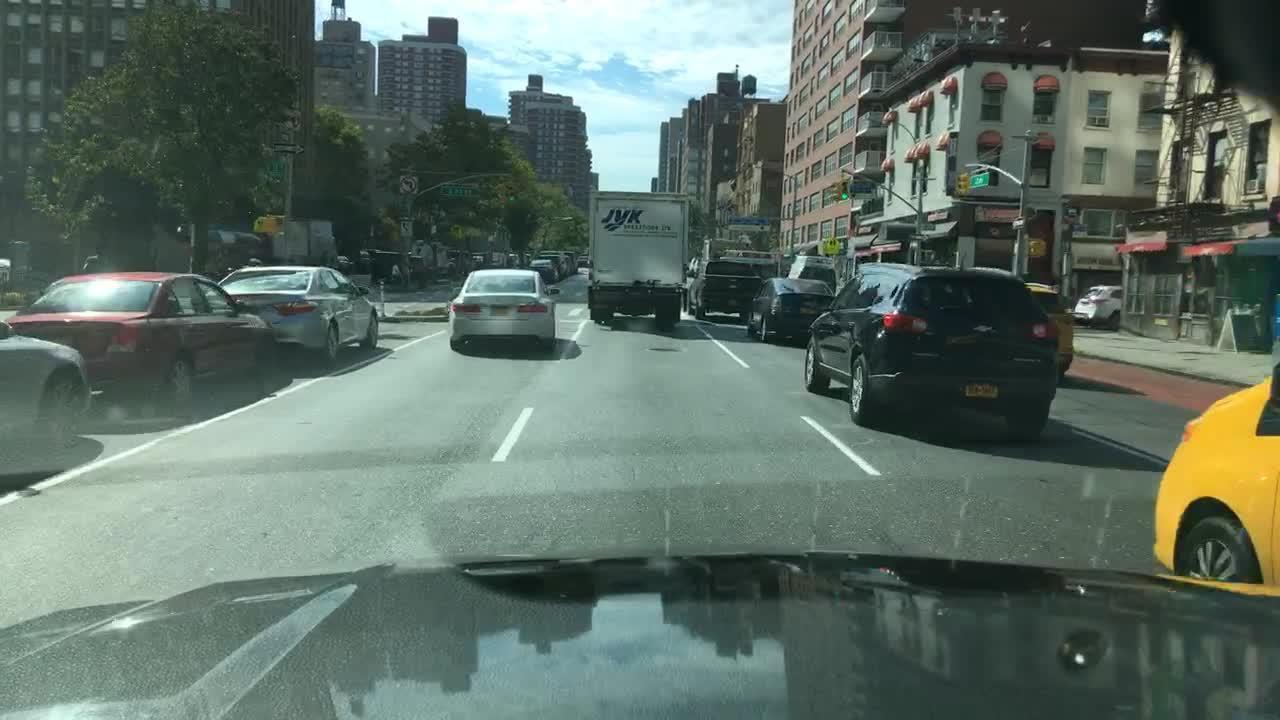chevrolet: (969, 317, 1000, 336)
